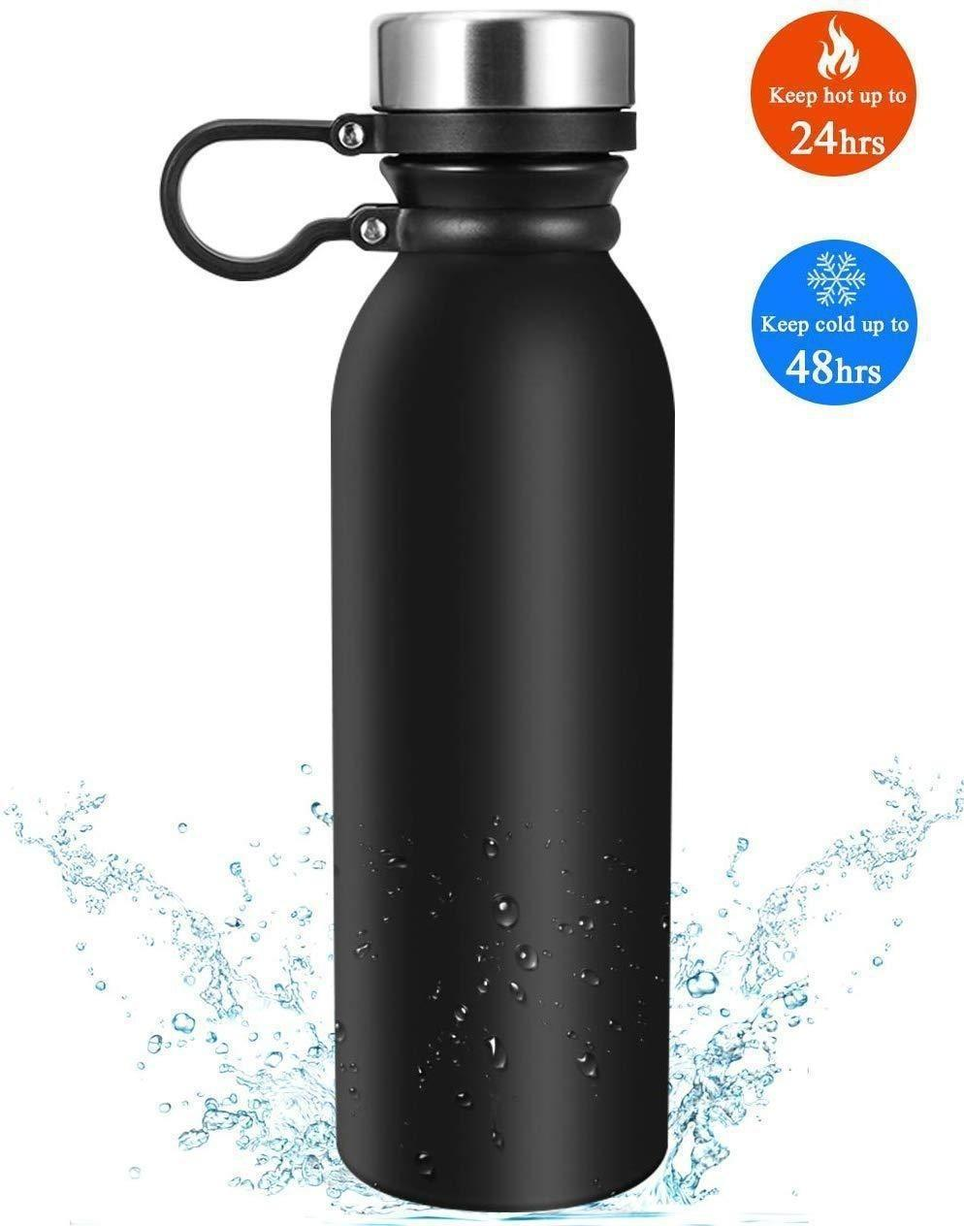gym bottle: (316, 1, 680, 1224)
